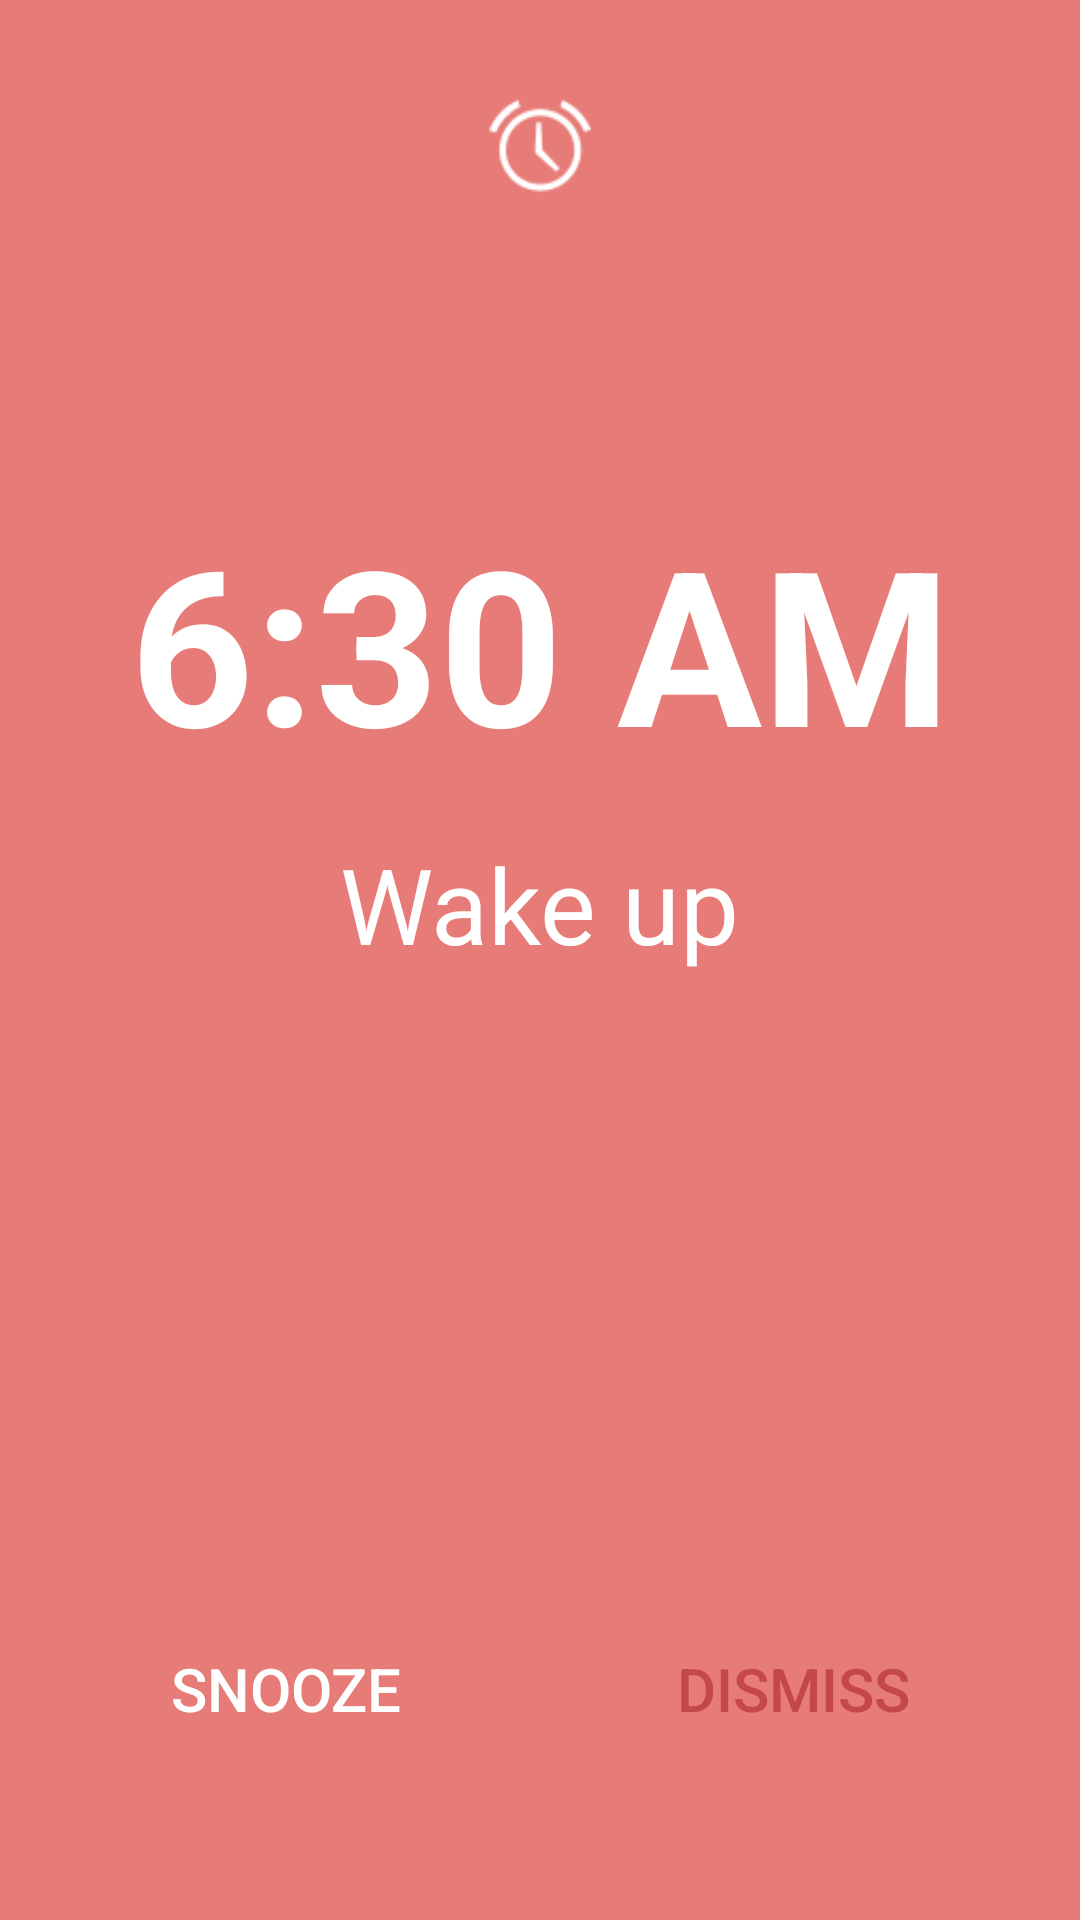

Where to tap for icons on this 1080x1920 app screen, as (x,y):
Alarm Clock: (540,146)
